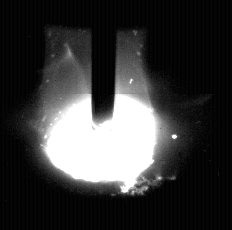arame: (92, 0, 115, 130)
poca: (45, 0, 157, 230)
